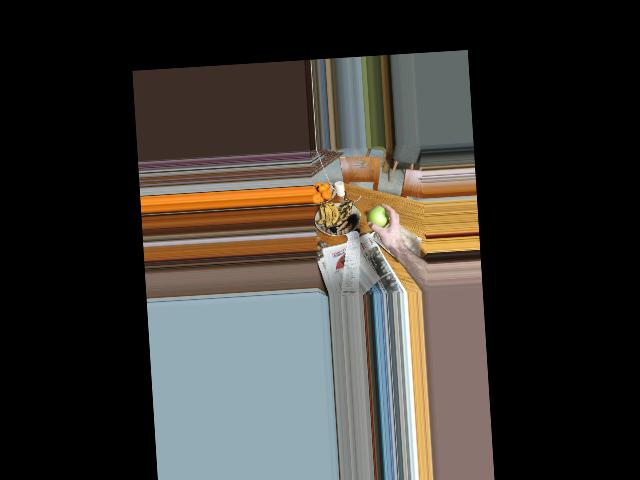apple: (365, 205, 390, 229)
